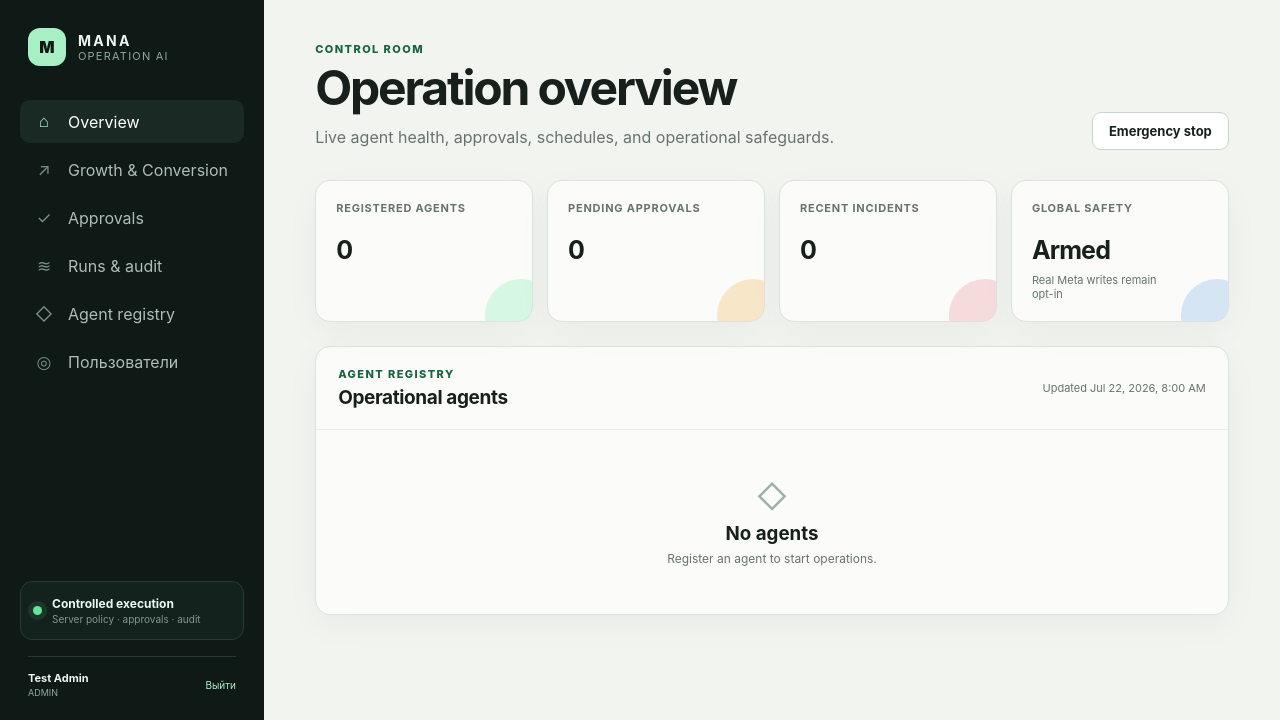
Test: AdminShell Telegram authentication › restores a server session, sends no identity headers, and logs out with CSRF
expect the text "Test Admin" is shown: met, box [28,671,89,685]
What coordinates should you click on to do the following:
click the button "Выйти"
I would click on:
 (221, 684)
Its box is [206,678,236,690].
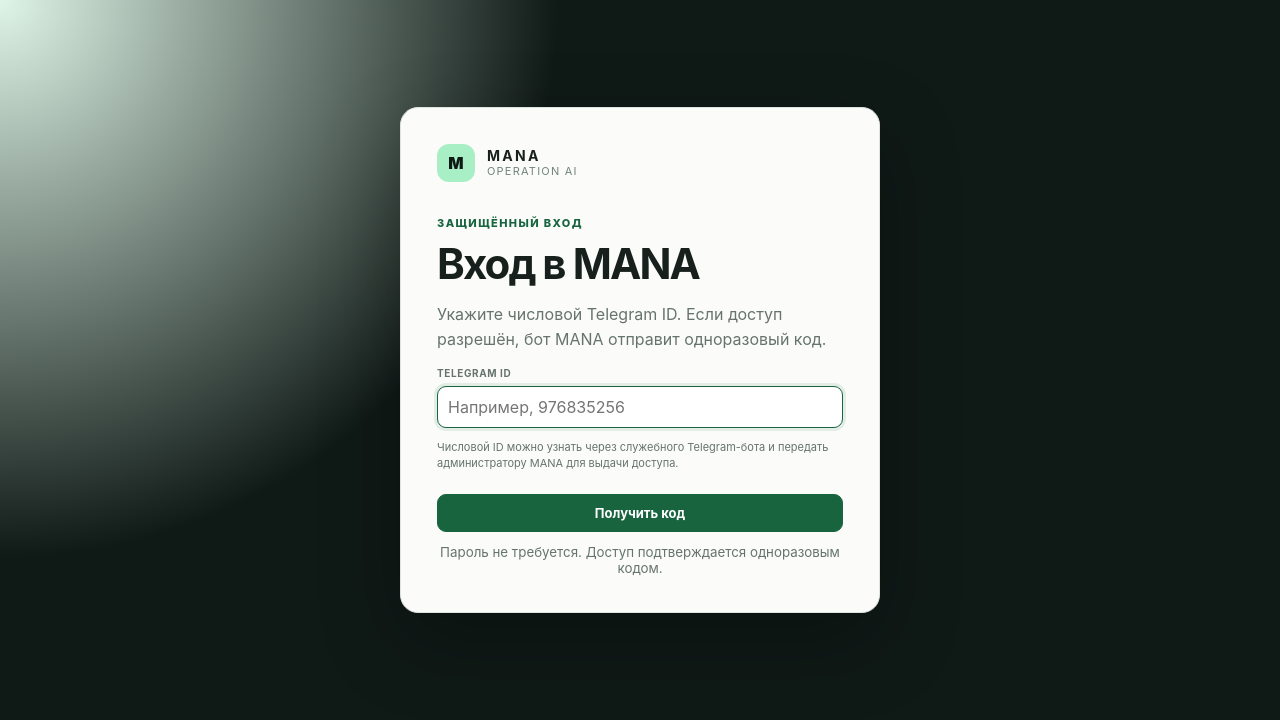
expect the heading "Вход в MANA" is shown: met, box [437,238,699,289]
